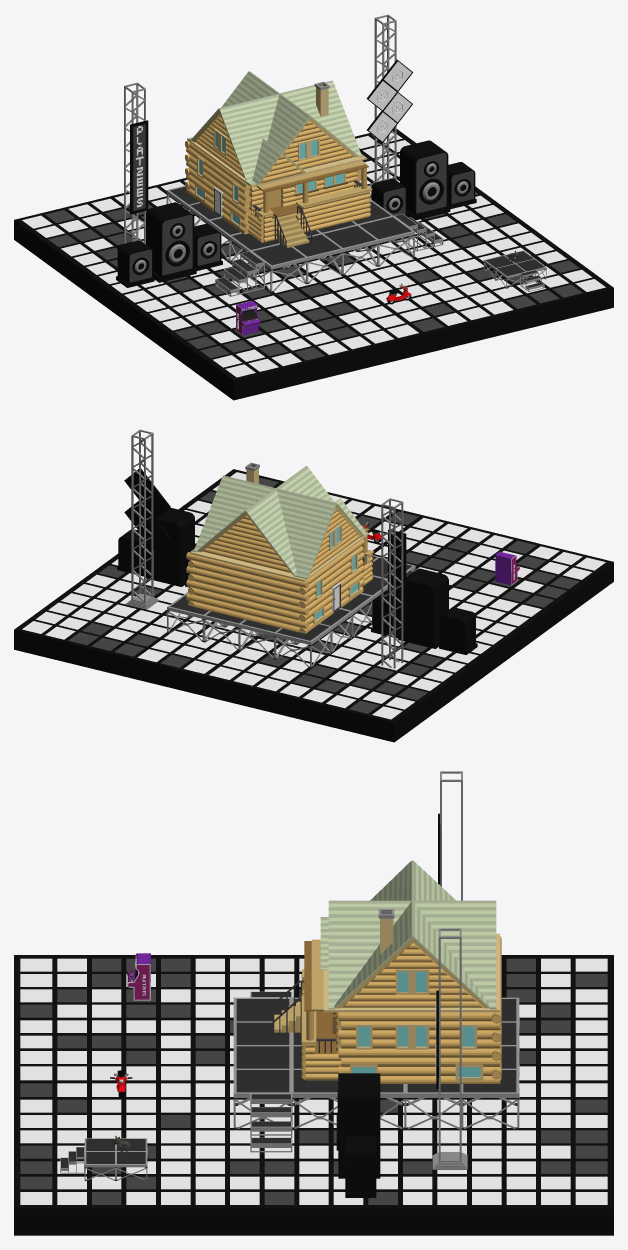
3 views of the same model, one above another, from view 1: azimuth 30°, elevation 25°; view 2: azimuth 150°, elevation 25°; view 3: azimuth 270°, elevation 25° (orthographic). The views are drawn at different scales.
Parts seen in each view (by area): view 1: Cube.008, Cube.1516, OBJRANDOM_ARCADE; view 2: Cube.008, Cube.1516, OBJRANDOM_ARCADE; view 3: Cube.008, Cube.1516, OBJRANDOM_ARCADE.
Part boxes in pixels (left/top/right/bottom): Cube.008: left=14, top=14, right=613, bottom=400; Cube.1516: left=185, top=71, right=372, bottom=248; OBJRANDOM_ARCADE: left=236, top=300, right=260, bottom=335; Cube.008: left=14, top=429, right=613, bottom=742; Cube.1516: left=186, top=462, right=373, bottom=633; OBJRANDOM_ARCADE: left=495, top=551, right=519, bottom=585; Cube.008: left=14, top=771, right=613, bottom=1235; Cube.1516: left=272, top=860, right=501, bottom=1083; OBJRANDOM_ARCADE: left=127, top=953, right=150, bottom=1000.
Size of the model in its own units: 4000 by 2073 by 4000.
46 materials, 2 textured.
